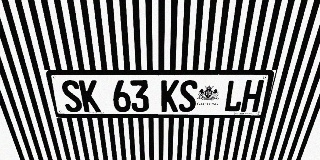3: (130, 80, 149, 112)
6: (111, 80, 131, 112)
H: (240, 80, 264, 112)
K: (78, 80, 101, 112), (161, 80, 179, 112)
L: (223, 80, 246, 112)
S: (60, 80, 83, 112), (179, 80, 198, 112)
